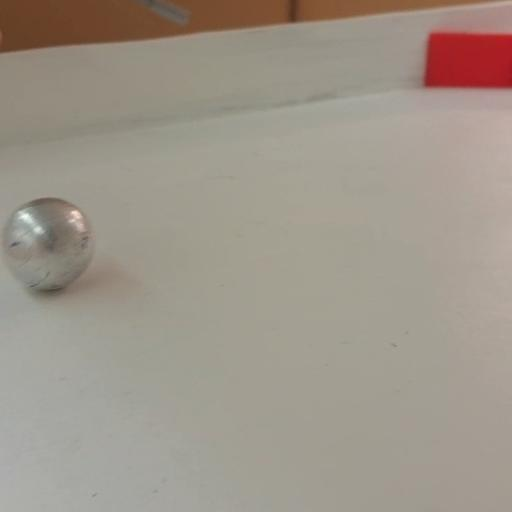alive: (0, 192, 99, 293)
